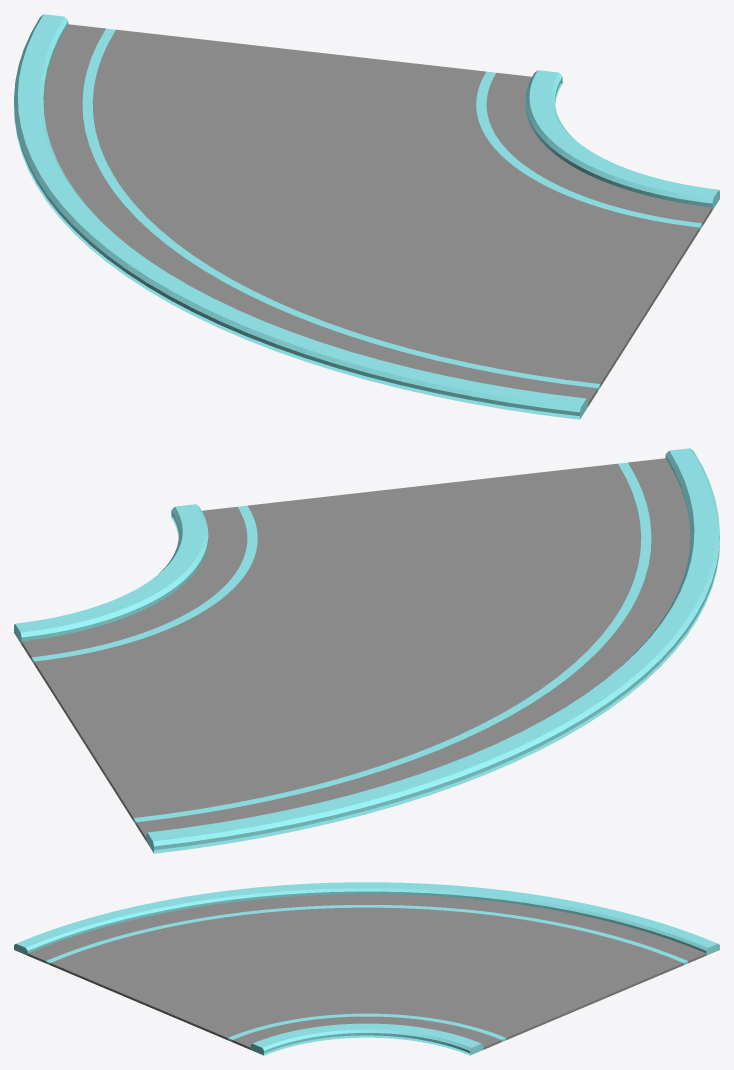
Rendered from NEW RAMP TURN.FBX.
3 views of the same model, one above another, from view 1: azimuth 30°, elevation 25°; view 2: azimuth 150°, elevation 25°; view 3: azimuth 270°, elevation 25° (orthographic). The views are drawn at different scales.
Parts seen in each view (by area): view 1: Plane002; view 2: Plane002; view 3: Plane002.
Boxes of the visible parts, left/top/right/bottom form: Plane002: left=14, top=14, right=719, bottom=419; Plane002: left=14, top=448, right=719, bottom=853; Plane002: left=14, top=882, right=719, bottom=1055.
Bounding box in the file's own units: 0.0084 × 0.000165 × 0.015.
